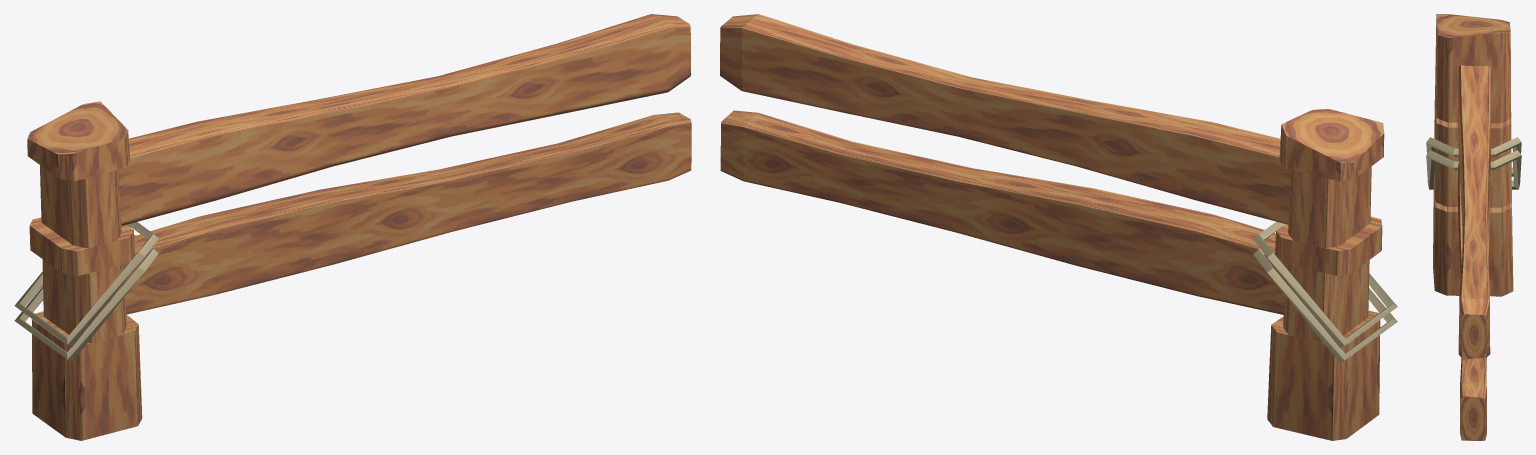
File: fence_w_250_a.glb
3 renders of one model, left to right at view 1: azimuth 30°, elevation 25°; view 2: azimuth 150°, elevation 25°; view 3: azimuth 270°, elevation 25°, orthographic. The views are drawn at different scales.
Parts seen in each view (by area): view 1: fence_w_250_a; view 2: fence_w_250_a; view 3: fence_w_250_a.
Boxes of the visible parts, x1,y1,x2,y2 form: fence_w_250_a: (14,14,691,440); fence_w_250_a: (720,14,1397,440); fence_w_250_a: (1426,14,1521,440).
Bounding box in the file's own units: 2.7 × 1.19 × 0.3989.
1 material, 1 textured.
